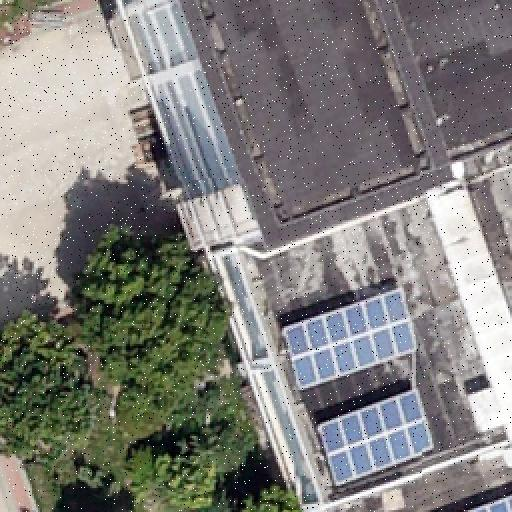solar-panel: (284, 288, 420, 388), (318, 389, 434, 483), (473, 497, 511, 511)
